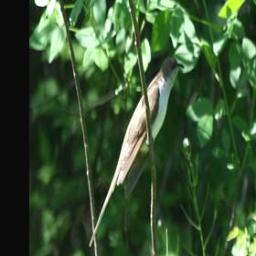Cuckoo: (88, 54, 184, 249)
